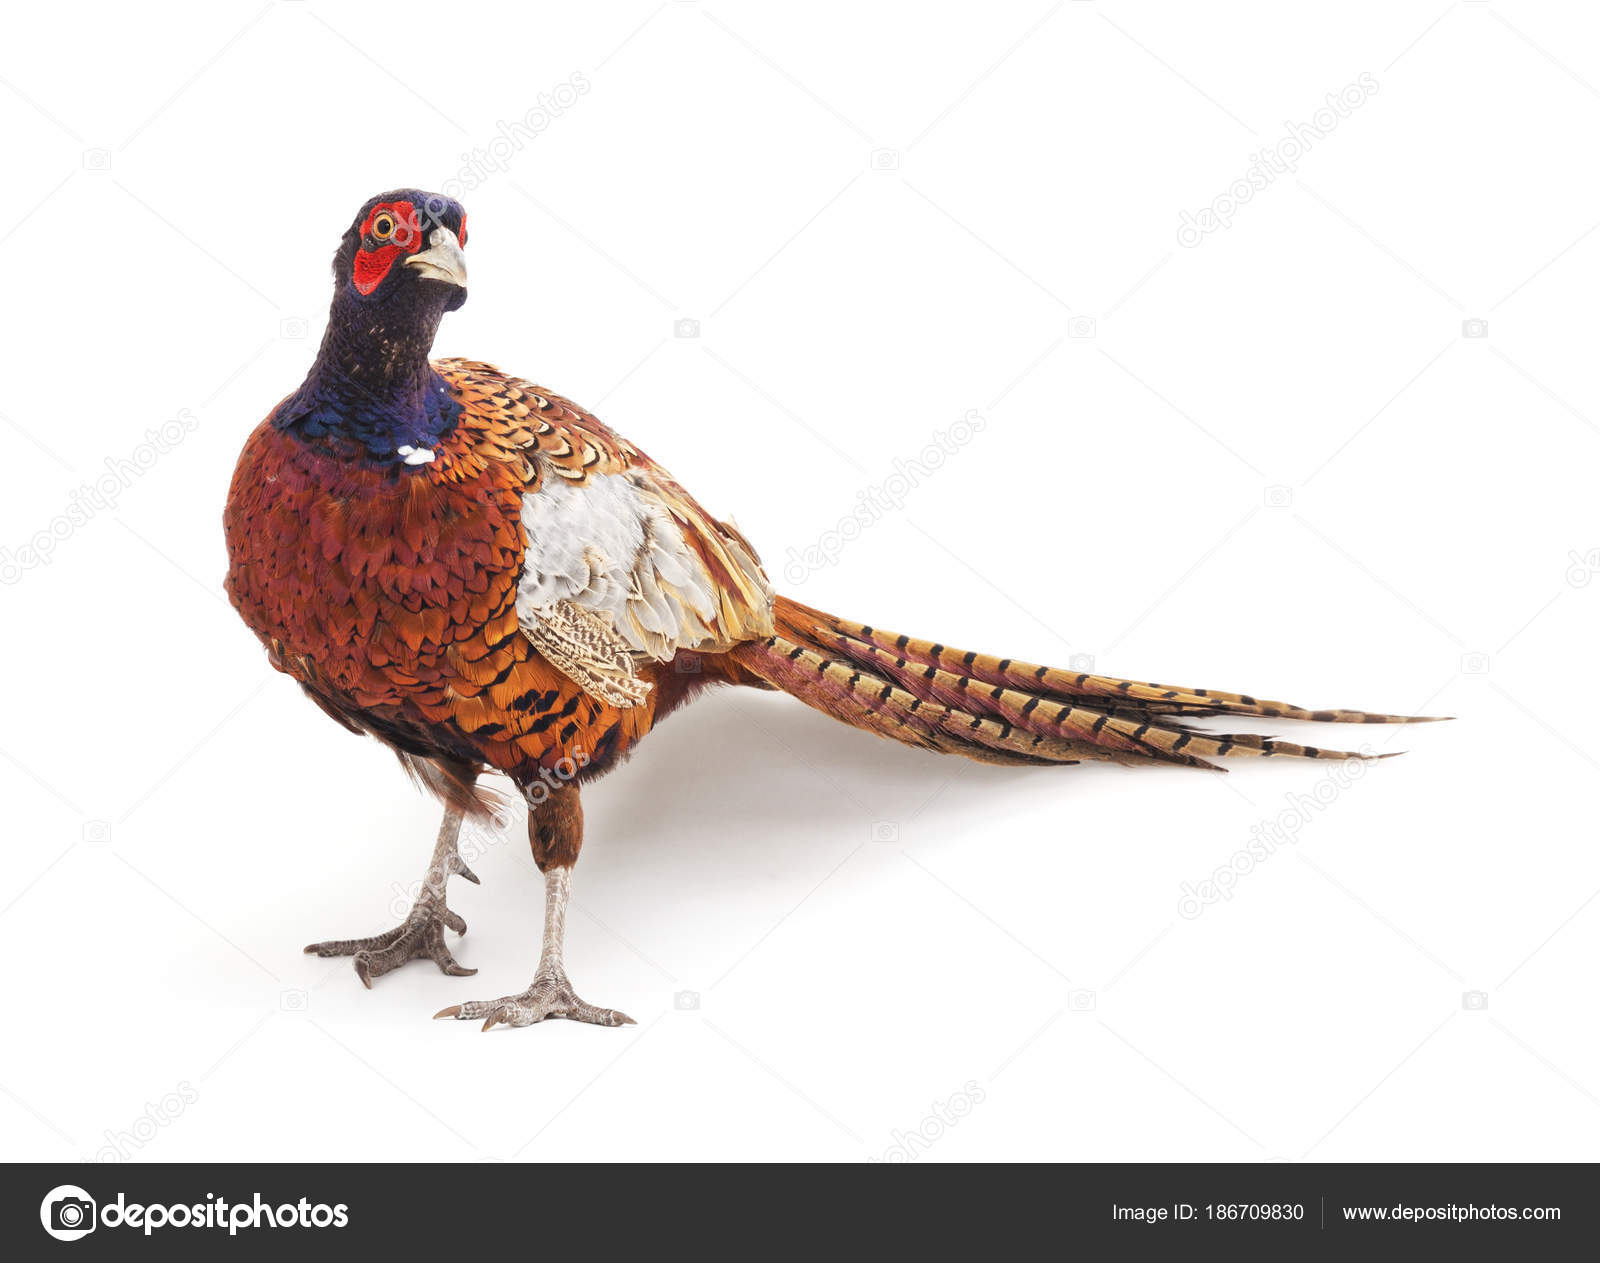pheasant: (226, 191, 1322, 1024)
